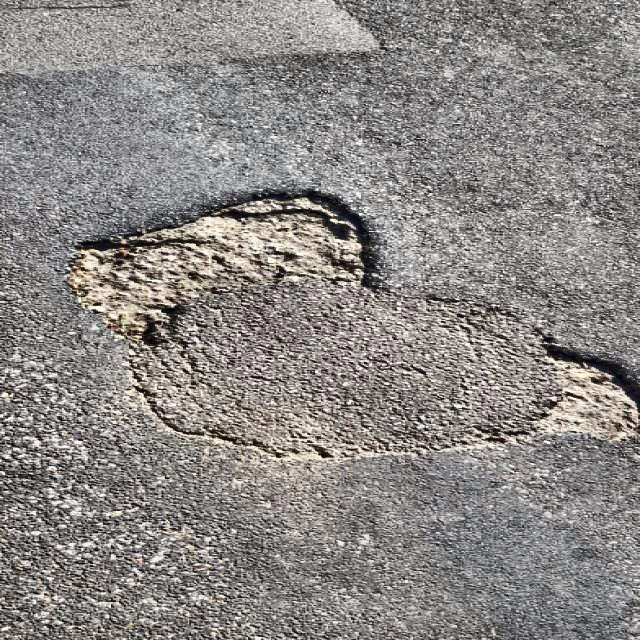Pothole: (57, 185, 381, 338), (520, 338, 638, 446)
